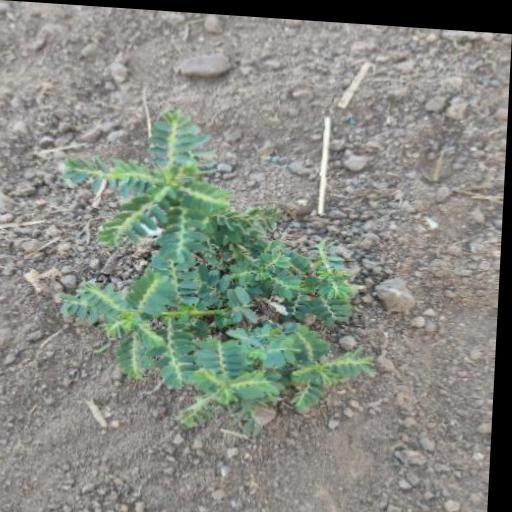weed: (47, 103, 406, 437)
